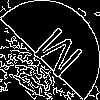M: (25, 25, 85, 88)
